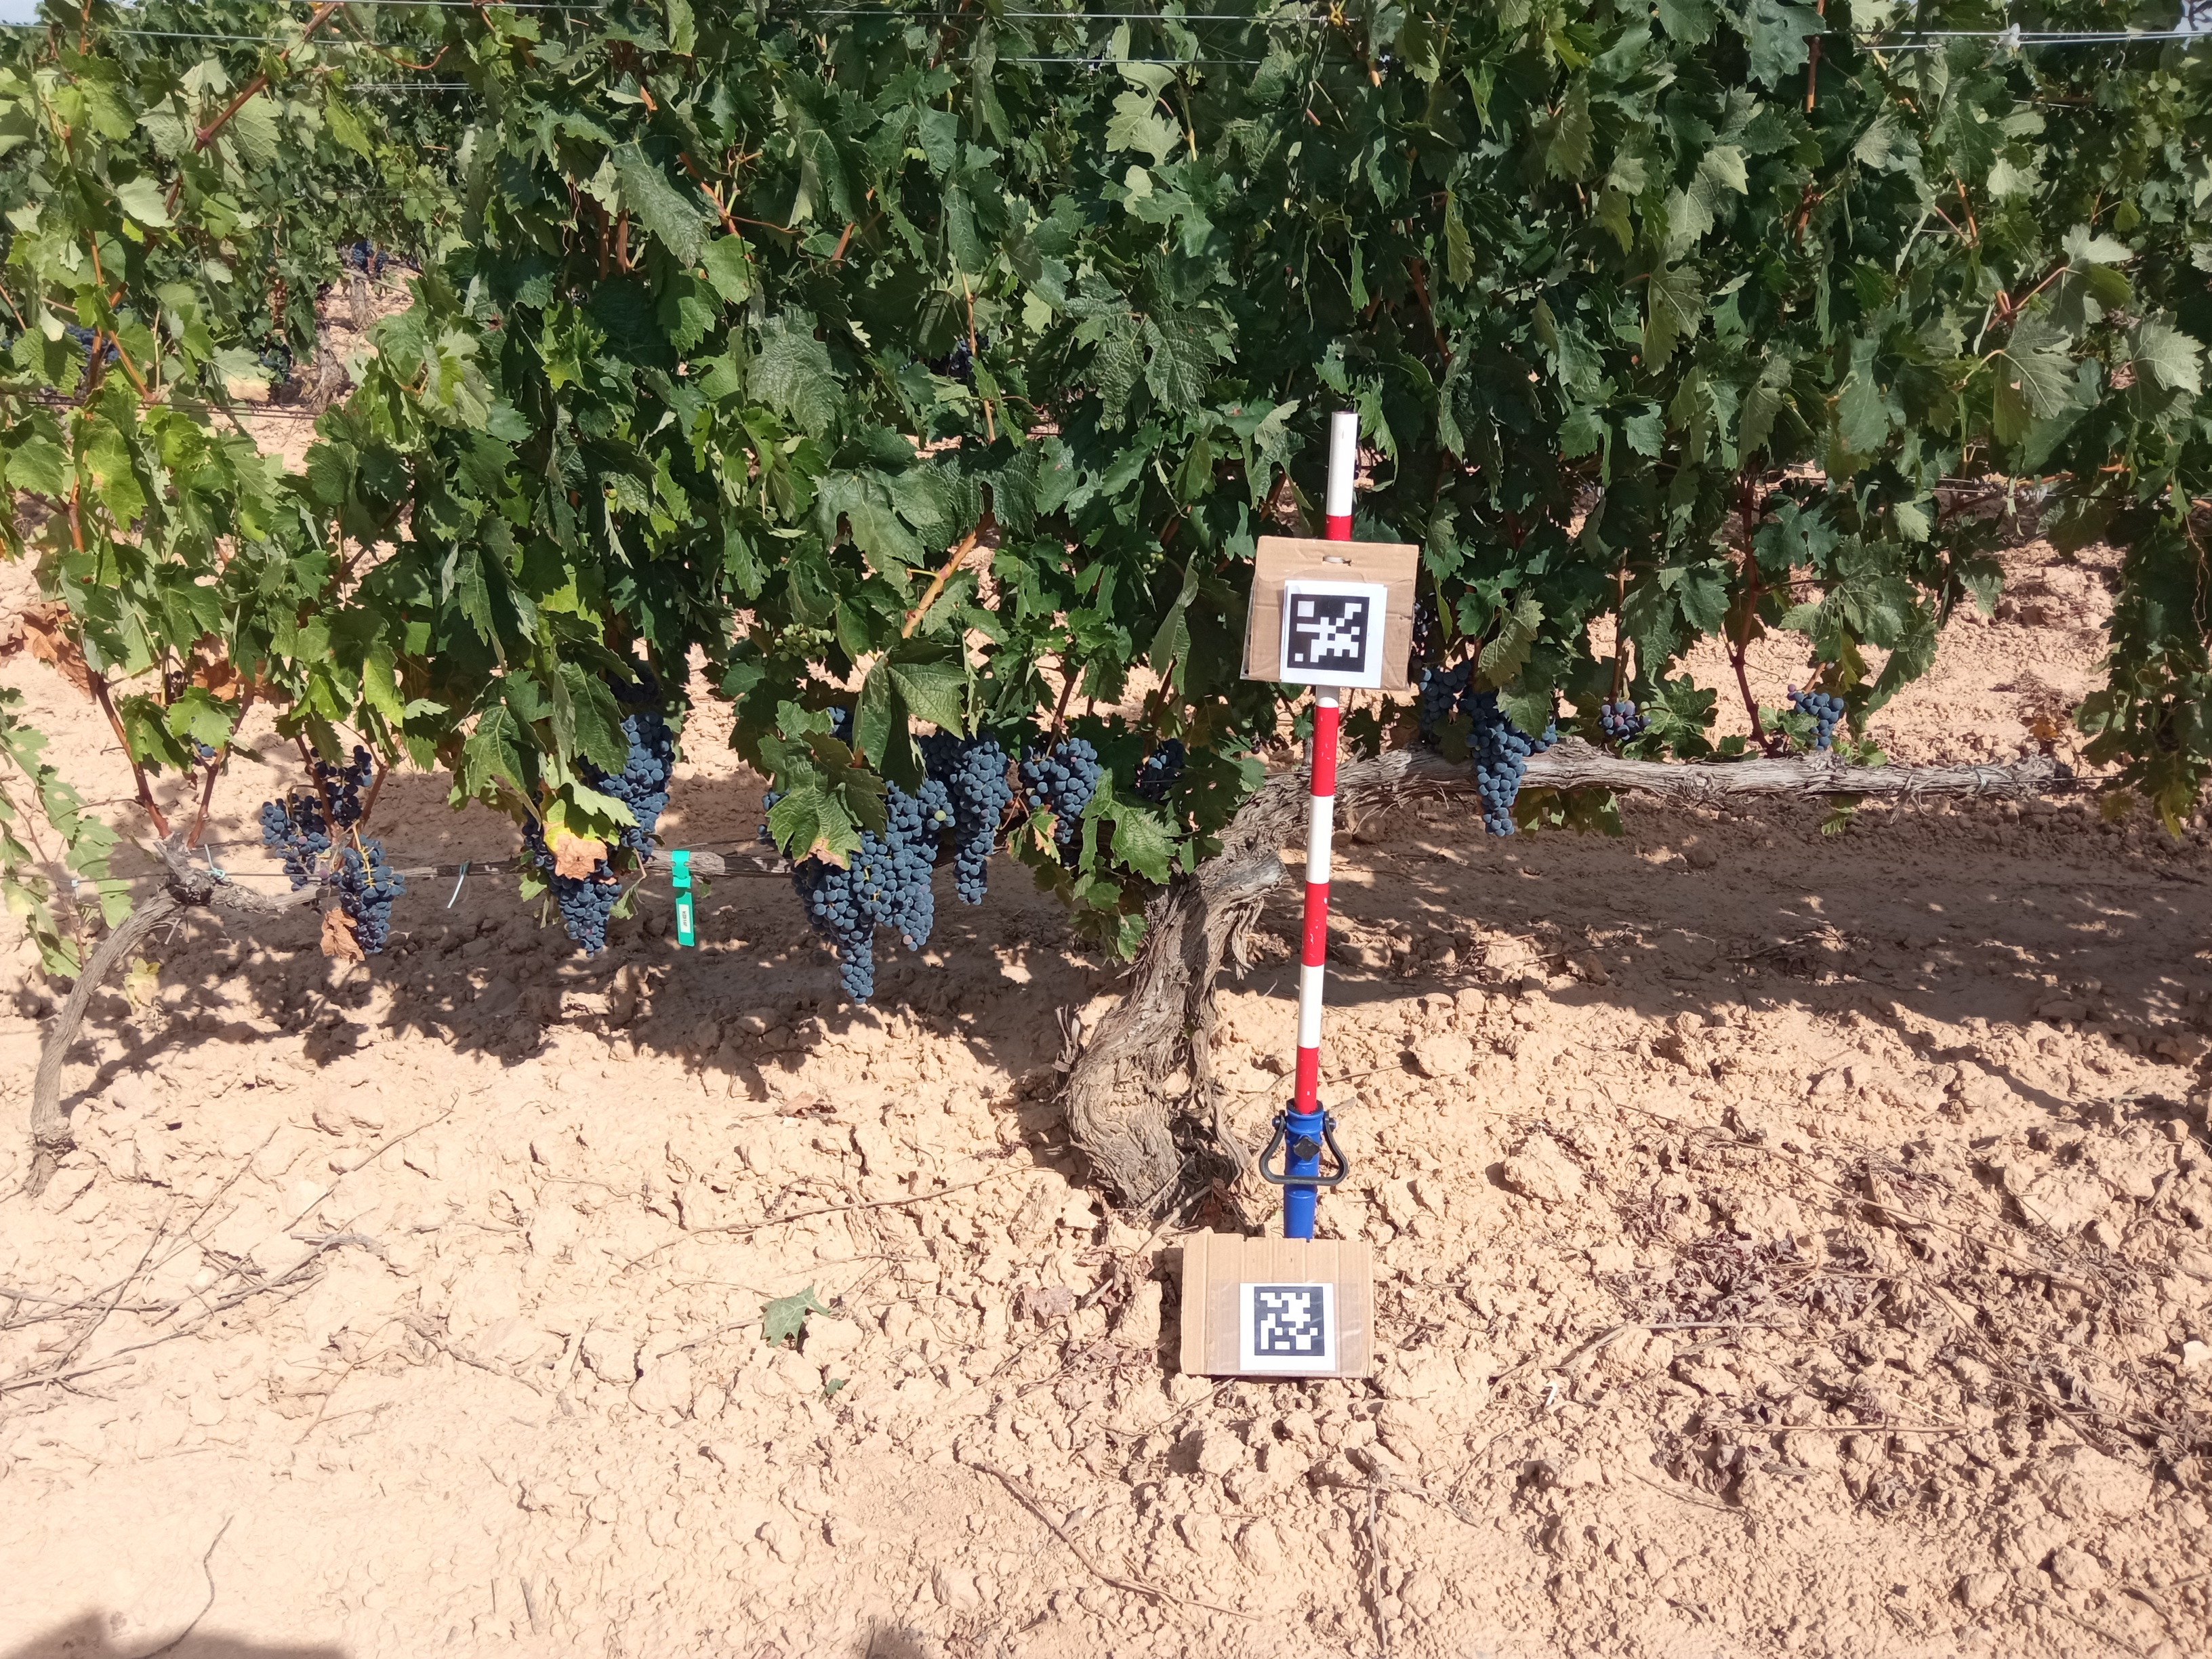grapes: (921, 732, 1010, 915), (1461, 680, 1557, 845), (792, 857, 876, 1006), (862, 781, 935, 948), (604, 711, 676, 856), (1028, 735, 1104, 854), (334, 833, 404, 957), (550, 864, 620, 958), (254, 791, 327, 878), (312, 748, 381, 826), (1414, 655, 1472, 744), (1785, 683, 1846, 749), (773, 619, 843, 664), (1597, 697, 1653, 749), (1146, 735, 1183, 793), (822, 699, 857, 748), (521, 821, 556, 868)
